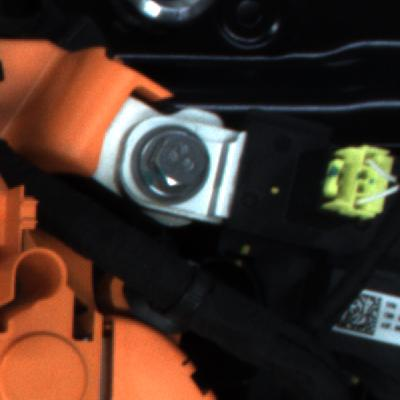nut_b: (124, 122, 225, 215)
